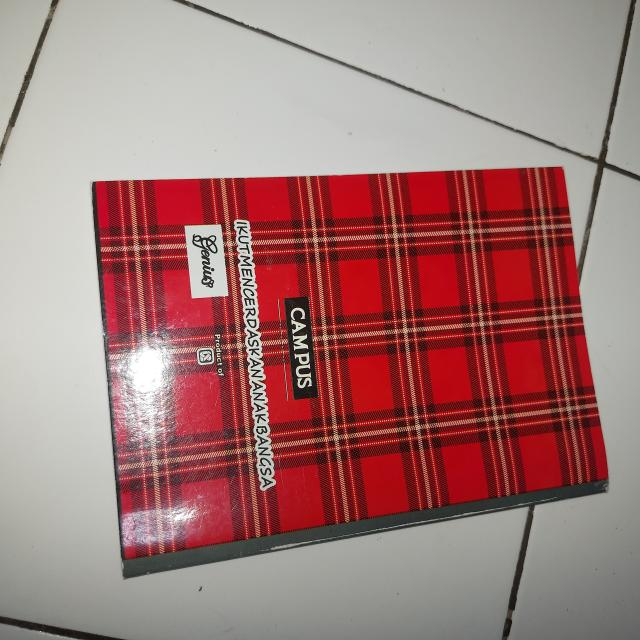Organik: (90, 161, 607, 578)
